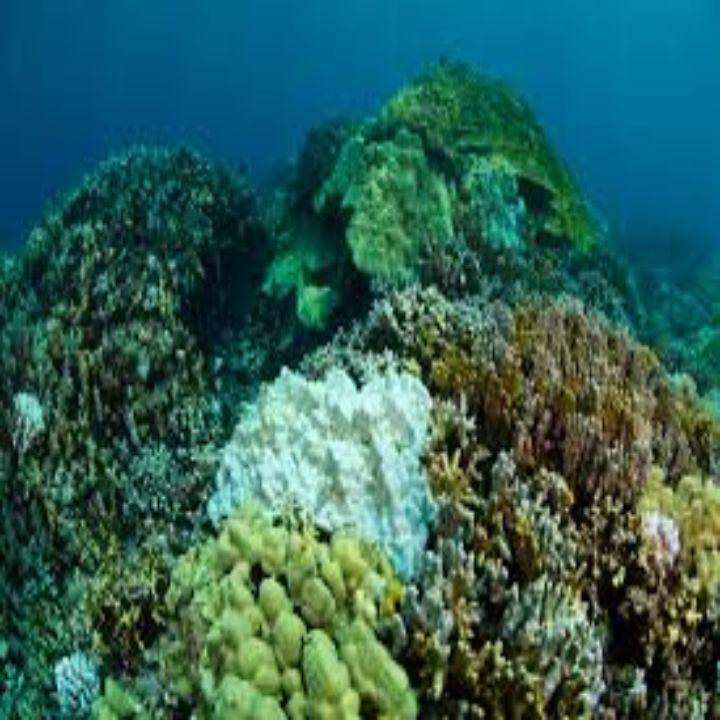Bleached disease: (202, 324, 476, 584)
Healthy Coral: (169, 510, 416, 720)
